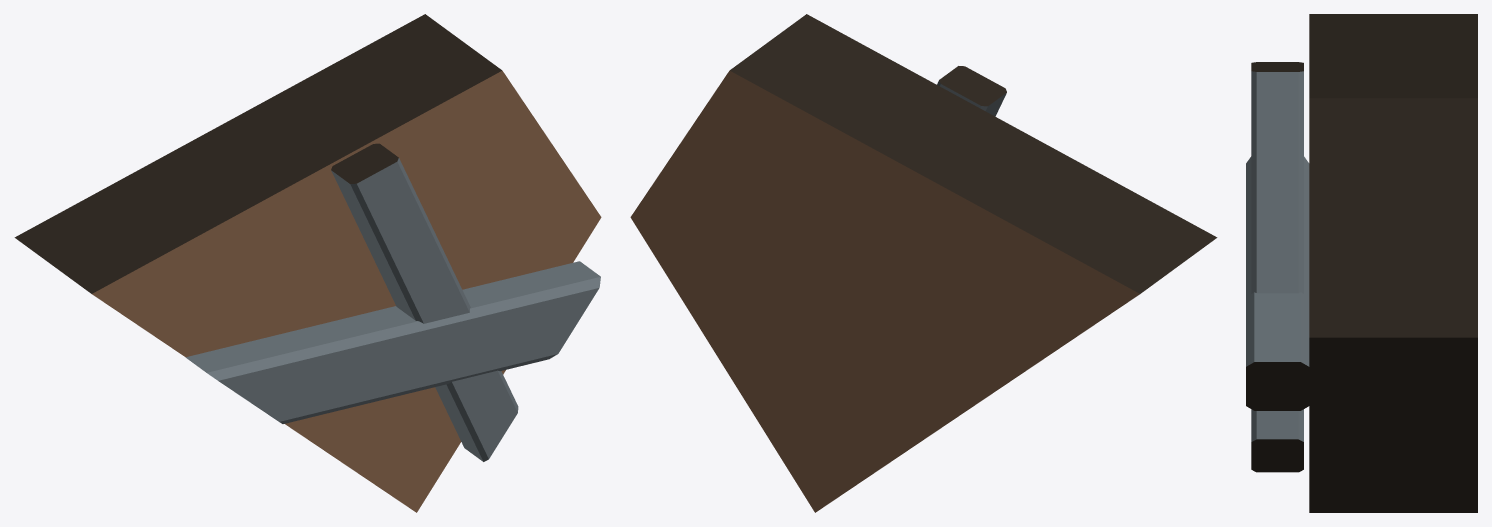
File: SM_DoorShard_01_03.fbx
The picture shows the model from 3 angles, left to right: view 1: azimuth 30°, elevation 25°; view 2: azimuth 150°, elevation 25°; view 3: azimuth 270°, elevation 25°; orthographic projection. The views are drawn at different scales.
Parts seen in each view (by area): view 1: SM_DoorShard_01_03; view 2: SM_DoorShard_01_03; view 3: SM_DoorShard_01_03.
Part boxes in pixels (x1,y1,x2,y2): SM_DoorShard_01_03: [14, 14, 601, 512]; SM_DoorShard_01_03: [630, 14, 1217, 512]; SM_DoorShard_01_03: [1246, 14, 1477, 512].
Bounding box in the file's own units: 60.99 × 22 × 48.19.
